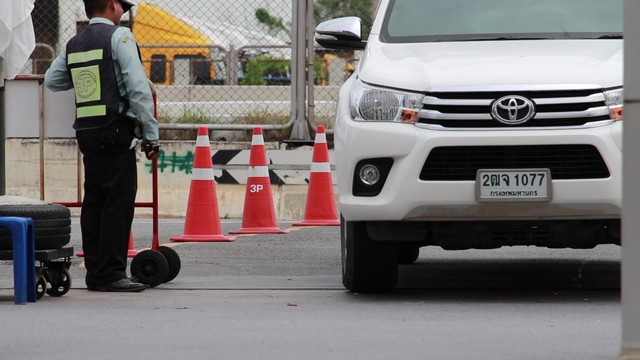in: (481, 172, 547, 197)
out: (475, 168, 554, 208)
